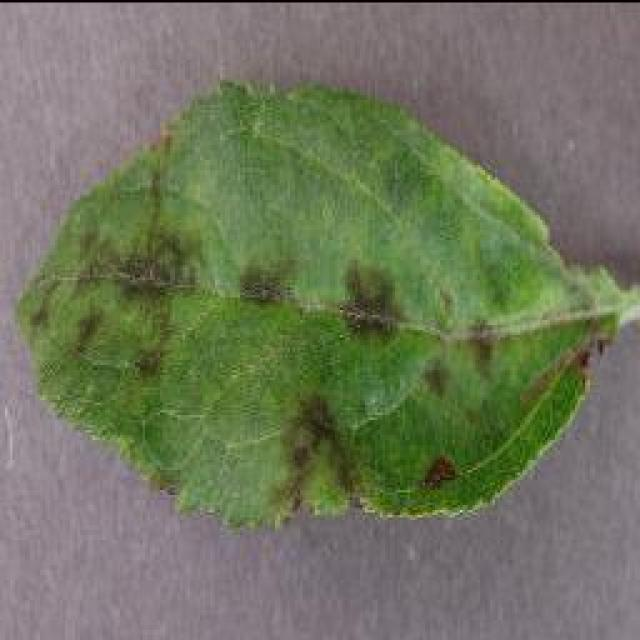apple scab disease: (12, 75, 638, 533)
